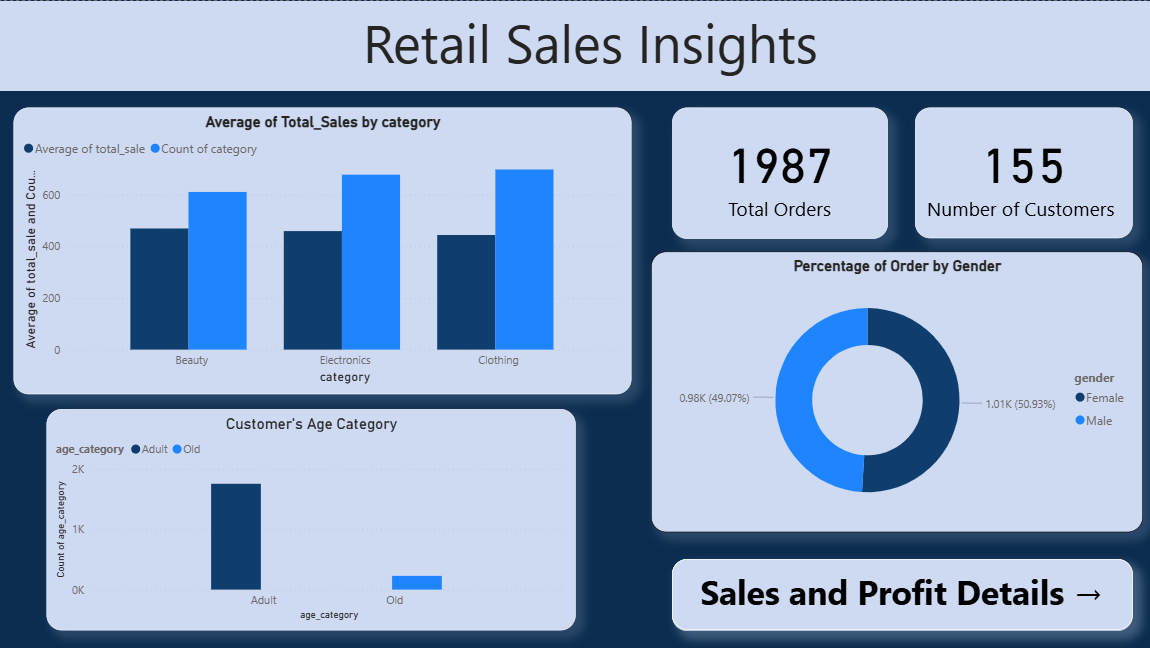

What the dashboard file says about the page in this screenshot:
{"tool":"powerbi","page":{"name":"Retail Overview","canvas":[1280,720],"ordinal":0},"visuals":[{"type":"card","fields":{"Values":["Count(retail_sales_analysis_cleaned.transactions_id)"]},"box":[746,118,240,146],"z":0},{"type":"card","fields":{"Values":["Count(retail_sales_analysis_cleaned.customer_id)"]},"box":[1016.7,118.3,241.7,145],"z":1000},{"type":"donutChart","title":"Percentage of Order by Gender","fields":{"Category":["retail_sales_analysis_cleaned.gender"],"Y":["CountNonNull(retail_sales_analysis_cleaned.gender)"]},"box":[723.3,278.3,546.7,311.7],"z":2000},{"type":"clusteredColumnChart","title":"Average of Total_Sales by category","fields":{"Category":["retail_sales_analysis_cleaned.category"],"Y":["Avg(retail_sales_analysis_cleaned.total_sale)","CountNonNull(retail_sales_analysis_cleaned.category)"]},"box":[15,118.3,686.7,318.3],"z":3000},{"type":"clusteredColumnChart","title":"Customer''s Age Category","fields":{"Category":["retail_sales_analysis_cleaned.age_category"],"Y":["CountNonNull(retail_sales_analysis_cleaned.age_category)"],"Series":["retail_sales_analysis_cleaned.age_category"]},"box":[52,454,588,246],"z":4000},{"type":"textbox","box":[0,0,1280,100],"z":5000},{"type":"textbox","box":[746,620,512,80],"z":7000},{"type":"actionButton","box":[746.7,620,511.7,78.3],"z":7500}]}

Visuals, with their boxes in screenshot pixels (x1, y1, x2, y2), scaled from the page's 1280x720 canvas onto the 1150x648 screenshot:
card - Count(retail_sales_analysis_cleaned.transactions_id): box=[670, 106, 886, 238]
card - Count(retail_sales_analysis_cleaned.customer_id): box=[913, 106, 1131, 237]
"Percentage of Order by Gender" donutChart: box=[650, 250, 1141, 531]
"Average of Total_Sales by category" clusteredColumnChart: box=[13, 106, 630, 393]
"Customer''s Age Category" clusteredColumnChart: box=[47, 409, 575, 630]
textbox: box=[0, 0, 1149, 90]
textbox: box=[670, 558, 1130, 630]
actionButton: box=[671, 558, 1131, 628]
